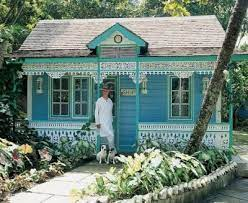Tin-shade House: (16, 16, 237, 162)
